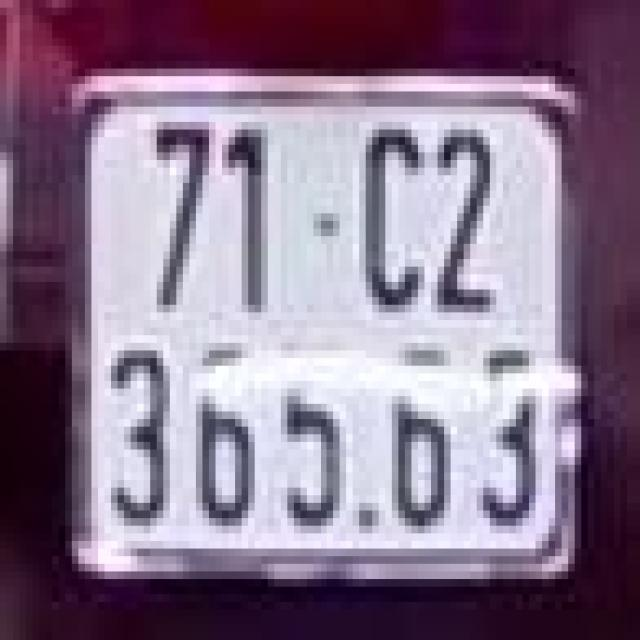1: (215, 106, 288, 328)
2: (428, 103, 506, 316)
3: (476, 328, 548, 541), (101, 332, 173, 537)
5: (271, 324, 362, 537)
6: (385, 328, 464, 533), (192, 324, 264, 537)
7: (144, 114, 216, 320)
C: (349, 114, 428, 305)
